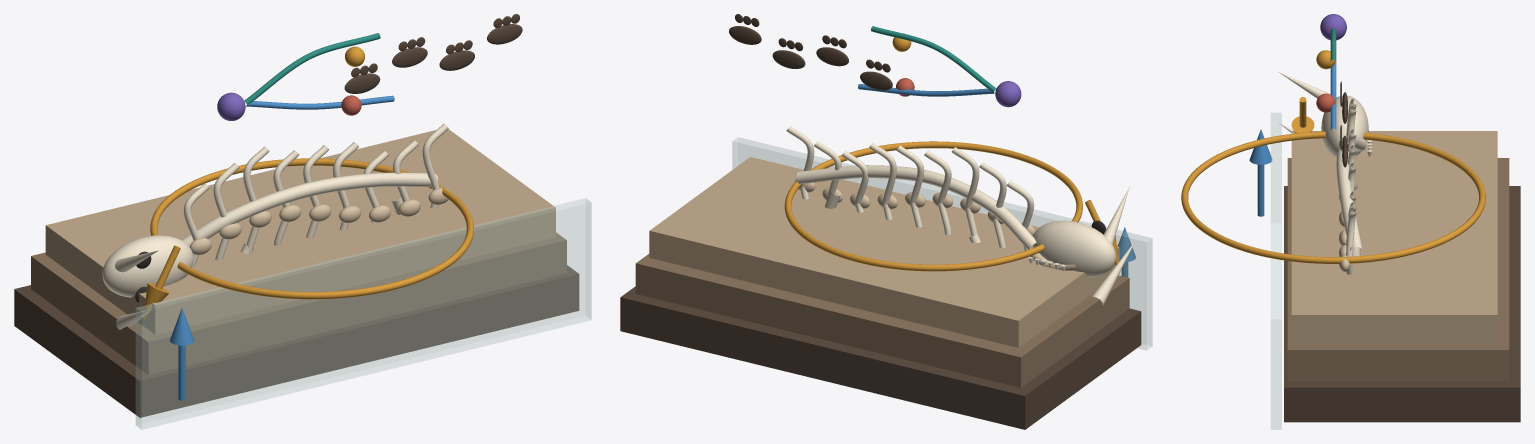
The model's file is evolution-fossil-specimen-suite.glb.
The picture shows the model from 3 angles, left to right: view 1: azimuth 30°, elevation 25°; view 2: azimuth 150°, elevation 25°; view 3: azimuth 270°, elevation 25°; orthographic projection. The views are drawn at different scales.
Parts seen in each view (by area): view 1: cutaway-front-face-with-visible-time-bands, stratigraphy-newest-rock-layer, stratigraphy-oldest-rock-layer, stratigraphy-middle-rock-layer, inspectable-fossil-evidence-highlight-ring, fossil-spine-with-curved-vertebrae, fossil-skull-main-cranium, ancestry-branch-to-modern-bird-line, ancestry-branch-to-modern-reptile-line, shared-ancestor-node-on-evidence-map, left-rib-arc-9, preserved-footprint-2 (+3 smaller); view 2: stratigraphy-newest-rock-layer, stratigraphy-oldest-rock-layer, stratigraphy-middle-rock-layer, cutaway-front-face-with-visible-time-bands, inspectable-fossil-evidence-highlight-ring, fossil-skull-main-cranium, fossil-spine-with-curved-vertebrae, ancestry-branch-to-modern-bird-line, ancestry-branch-to-modern-reptile-line, shared-ancestor-node-on-evidence-map, fossil-horn-right-adaptation-trait, left-rib-arc-6 (+1 smaller); view 3: stratigraphy-newest-rock-layer, stratigraphy-oldest-rock-layer, stratigraphy-middle-rock-layer, inspectable-fossil-evidence-highlight-ring, cutaway-front-face-with-visible-time-bands, fossil-skull-main-cranium, fossil-spine-with-curved-vertebrae, shared-ancestor-node-on-evidence-map, older-to-newer-time-arrow-shaft, ancestry-branch-to-modern-reptile-line, older-to-newer-time-arrow-head, left-rib-arc-9.
Boxes of the visible parts, box(x1,y1,x2,y2) form: cutaway-front-face-with-visible-time-bands: box(136, 198, 591, 429); stratigraphy-newest-rock-layer: box(45, 129, 555, 334); stratigraphy-oldest-rock-layer: box(14, 265, 579, 417); stratigraphy-middle-rock-layer: box(31, 232, 566, 374); inspectable-fossil-evidence-highlight-ring: box(150, 158, 473, 299); fossil-spine-with-curved-vertebrae: box(181, 172, 437, 246); fossil-skull-main-cranium: box(102, 235, 193, 297); ancestry-branch-to-modern-bird-line: box(244, 33, 380, 104); ancestry-branch-to-modern-reptile-line: box(246, 95, 394, 109); shared-ancestor-node-on-evidence-map: box(217, 92, 245, 120); left-rib-arc-9: box(422, 123, 448, 190); preserved-footprint-2: box(392, 47, 427, 67); stratigraphy-newest-rock-layer: box(649, 157, 1119, 347); stratigraphy-oldest-rock-layer: box(620, 286, 1141, 429); stratigraphy-middle-rock-layer: box(635, 254, 1129, 387); cutaway-front-face-with-visible-time-bands: box(732, 137, 1152, 350); inspectable-fossil-evidence-highlight-ring: box(784, 141, 1082, 271); fossil-skull-main-cranium: box(1032, 220, 1115, 277); fossil-spine-with-curved-vertebrae: box(796, 165, 1036, 249); ancestry-branch-to-modern-bird-line: box(871, 26, 996, 91); ancestry-branch-to-modern-reptile-line: box(858, 84, 994, 96); shared-ancestor-node-on-evidence-map: box(995, 81, 1021, 107); fossil-horn-right-adaptation-trait: box(1091, 241, 1135, 305); left-rib-arc-6: box(869, 143, 896, 204); stratigraphy-newest-rock-layer: box(1291, 131, 1497, 342); stratigraphy-oldest-rock-layer: box(1284, 186, 1520, 422); stratigraphy-middle-rock-layer: box(1287, 158, 1509, 381); inspectable-fossil-evidence-highlight-ring: box(1181, 131, 1485, 263); cutaway-front-face-with-visible-time-bands: box(1271, 113, 1281, 429); fossil-skull-main-cranium: box(1321, 95, 1368, 156); fossil-spine-with-curved-vertebrae: box(1336, 136, 1366, 251); shared-ancestor-node-on-evidence-map: box(1320, 14, 1346, 40); older-to-newer-time-arrow-shaft: box(1257, 164, 1264, 216); ancestry-branch-to-modern-reptile-line: box(1330, 60, 1336, 130); older-to-newer-time-arrow-head: box(1249, 129, 1272, 164); left-rib-arc-9: box(1346, 207, 1357, 263).
Size of what is drawn, in the model's own units: 2.56 by 1.66 by 1.78.
